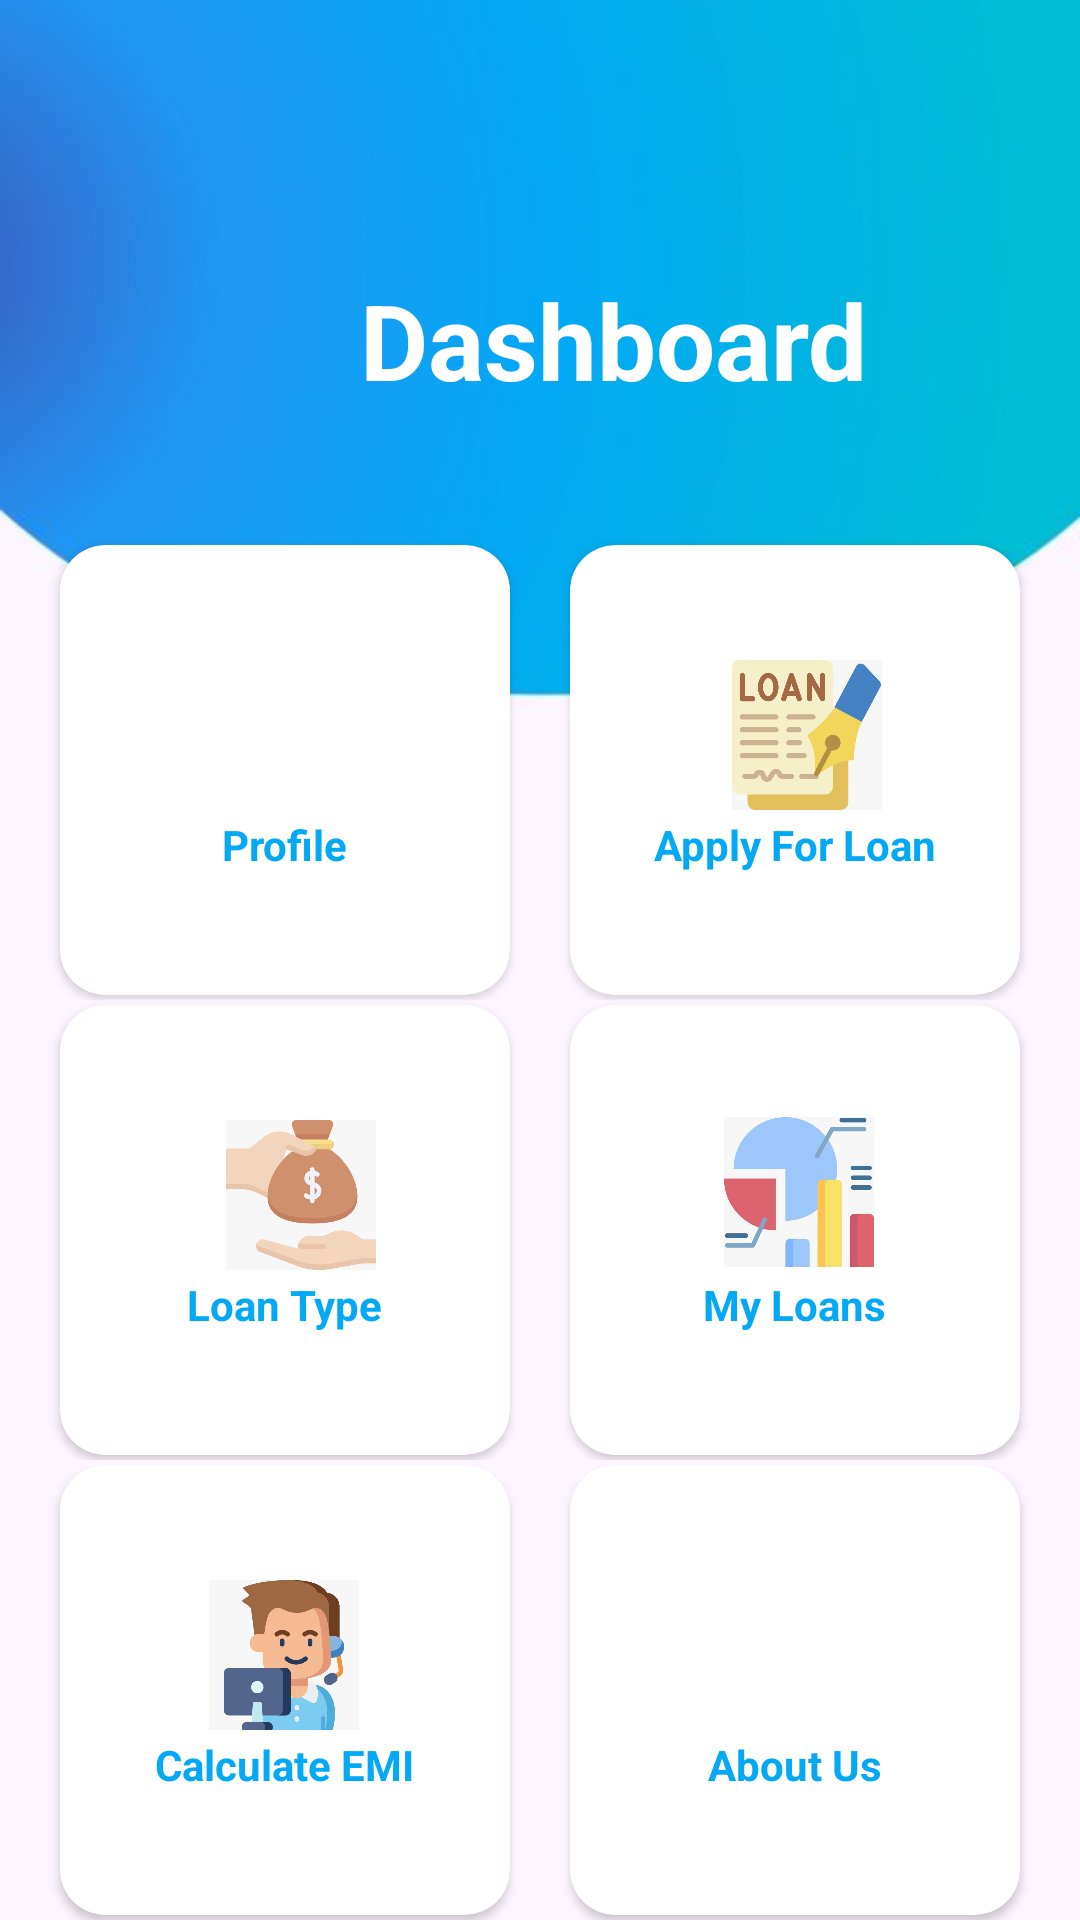

Icons on this 1080 × 1920 Android screen, each with the point to tap as [x,y]:
helpicon: [284,1655]
